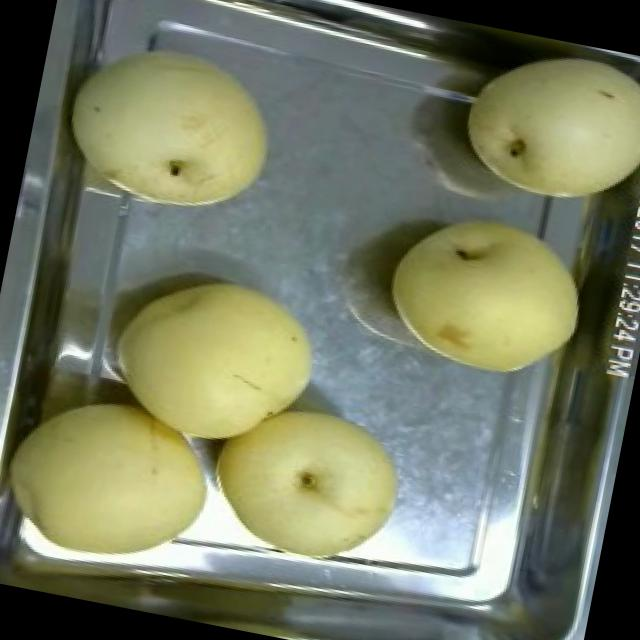Fruit: (91, 252, 340, 474), (46, 22, 296, 238), (365, 188, 606, 402), (0, 373, 236, 590), (190, 378, 422, 582), (444, 24, 640, 227)
